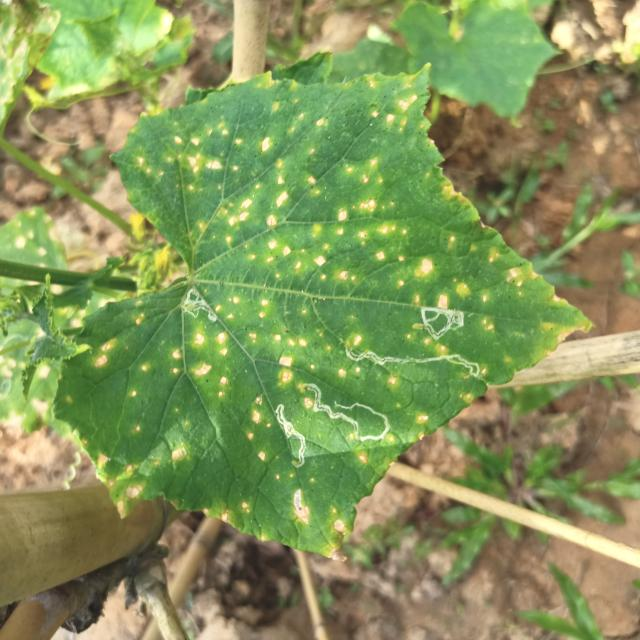disease_cucumber: (136, 92, 538, 300), (130, 311, 234, 406), (84, 422, 188, 516), (228, 295, 306, 387), (290, 487, 352, 566), (248, 395, 274, 466), (202, 498, 252, 527), (338, 364, 400, 386), (92, 338, 113, 372), (420, 337, 449, 355)
